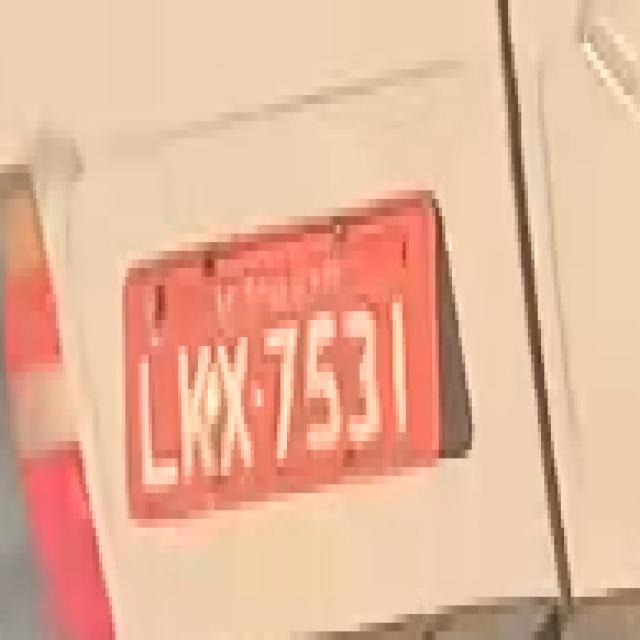Placa_mercosul_carro: (124, 195, 441, 528)
